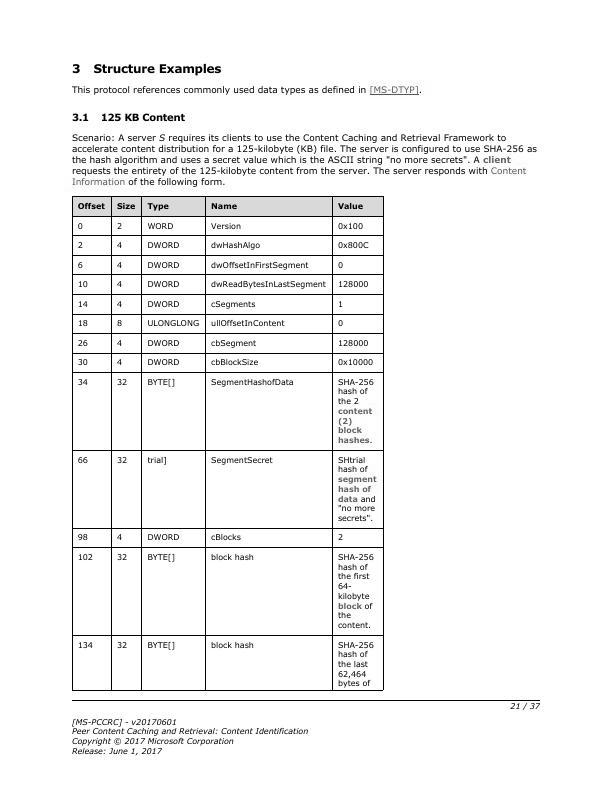table: (71, 195, 386, 694)
text: (68, 131, 540, 189), (68, 714, 311, 755), (68, 82, 426, 98), (68, 59, 223, 78), (70, 110, 187, 125)
